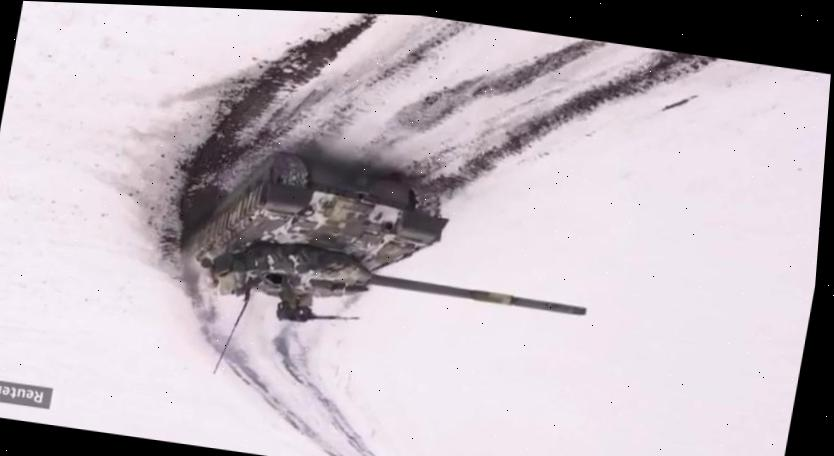tank: (175, 143, 609, 364)
